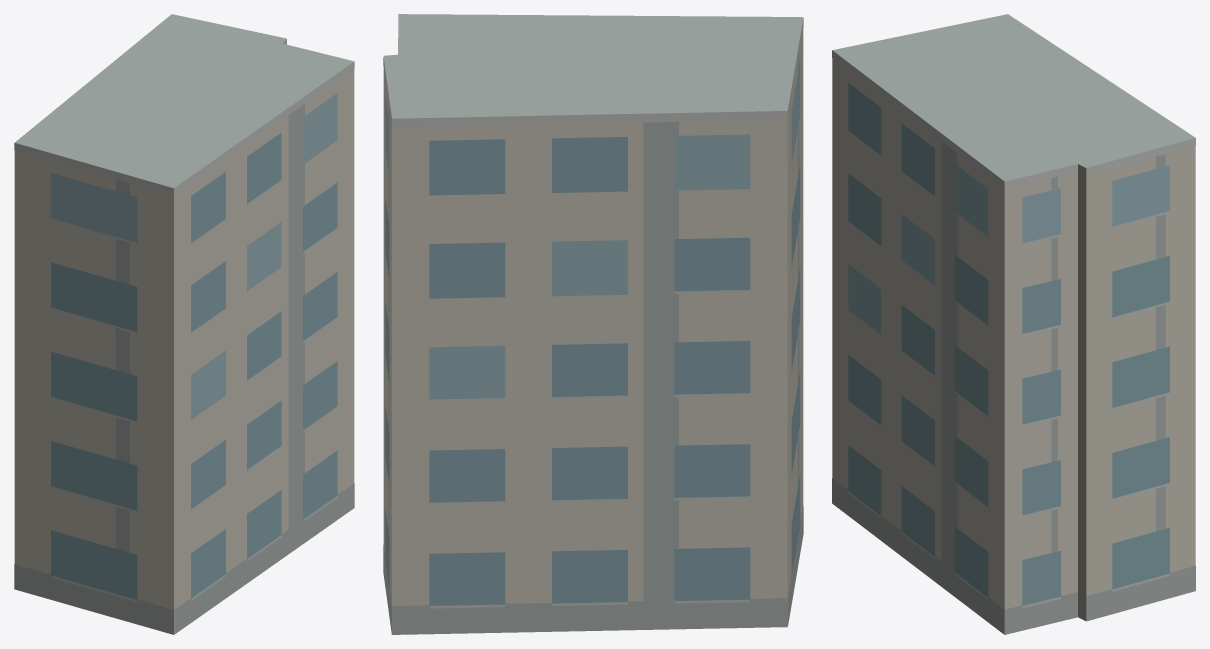
Rendered from survey-upis-32618747.glb.
The picture shows the model from 3 angles, left to right: view 1: azimuth 30°, elevation 25°; view 2: azimuth 150°, elevation 25°; view 3: azimuth 270°, elevation 25°; orthographic projection. The views are drawn at different scales.
Parts seen in each view (by area): view 1: survey-upis-32618747.tmp; view 2: survey-upis-32618747.tmp; view 3: survey-upis-32618747.tmp.
Part boxes in pixels (box(x1,y1,x2,y2)): survey-upis-32618747.tmp: box(14, 14, 354, 634); survey-upis-32618747.tmp: box(383, 14, 803, 634); survey-upis-32618747.tmp: box(832, 14, 1195, 634).
Bounding box in the file's own units: 11.19 × 14.1 × 10.26.
